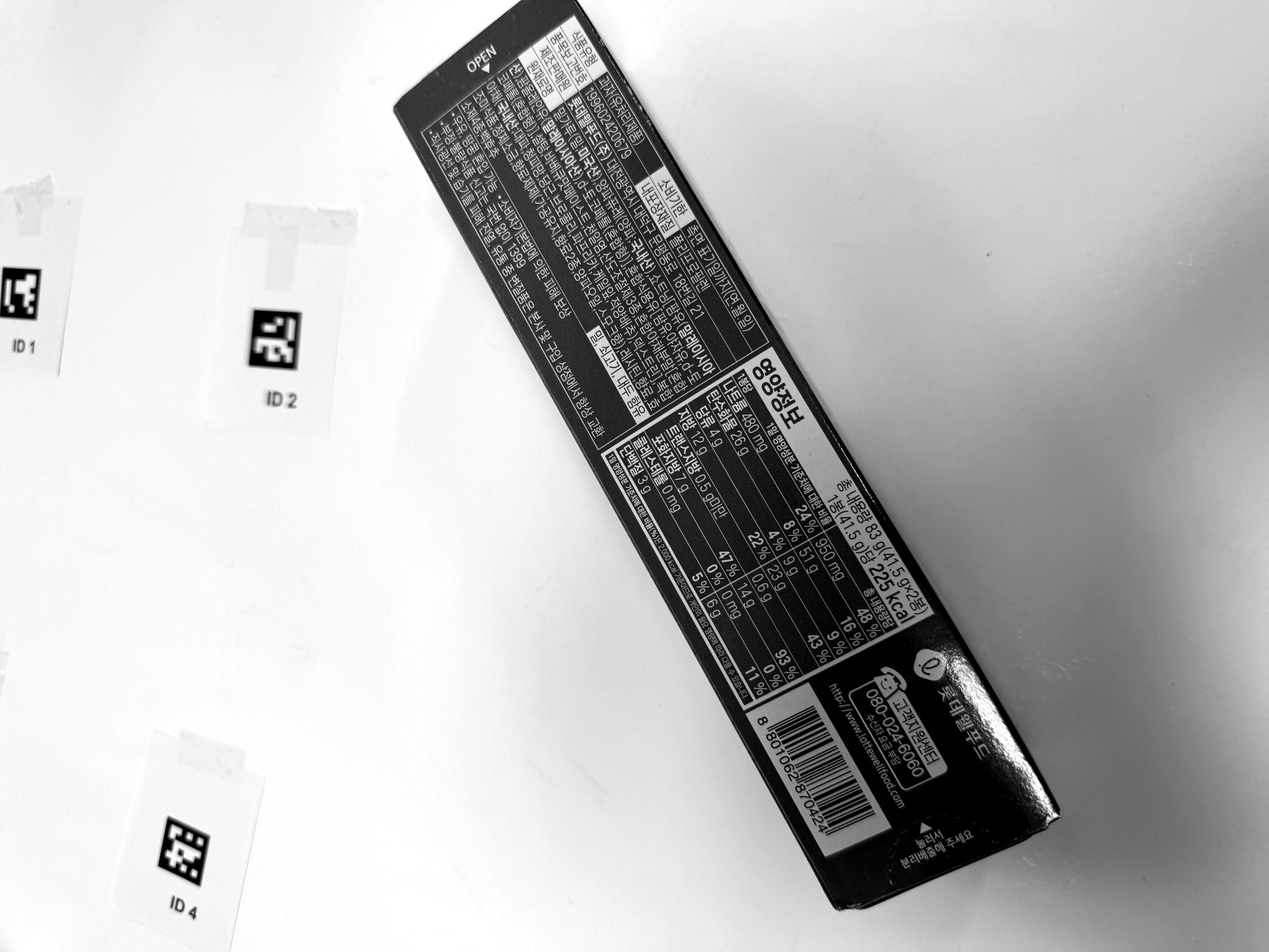cracker_vege: (395, 0, 1060, 910)
